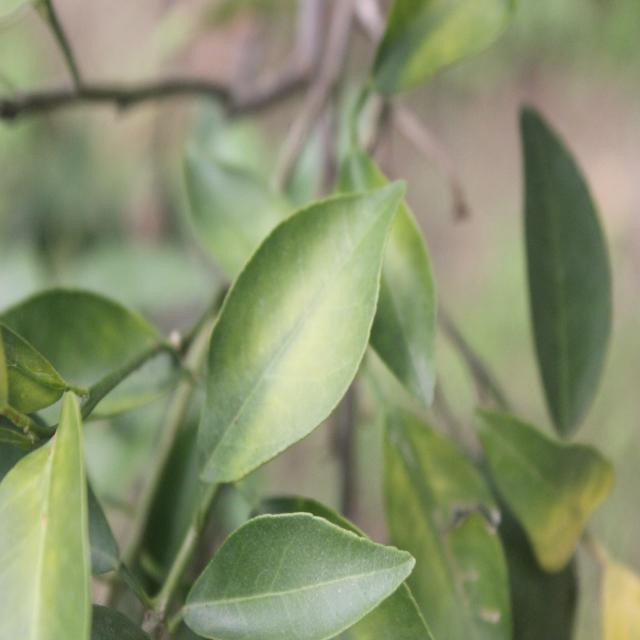greening: (199, 174, 400, 472), (0, 396, 83, 640)
